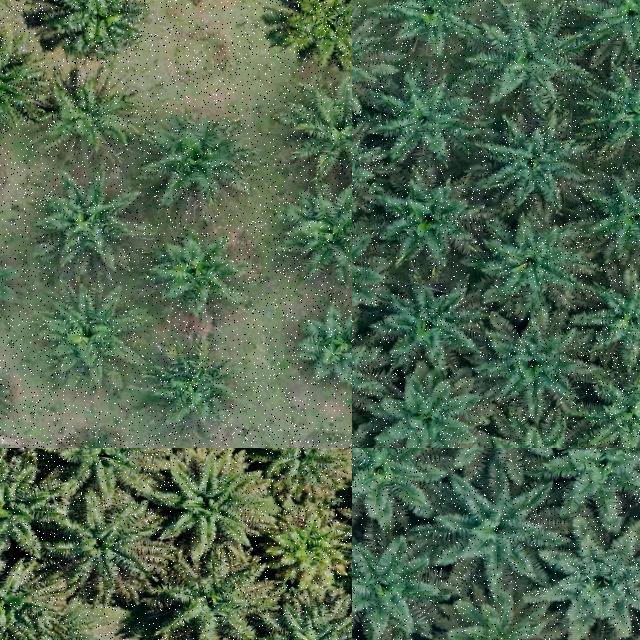Ganoderma: (290, 0, 352, 58), (282, 525, 332, 572)
